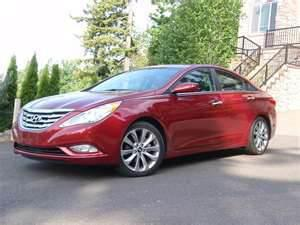Car: (8, 57, 285, 185)
